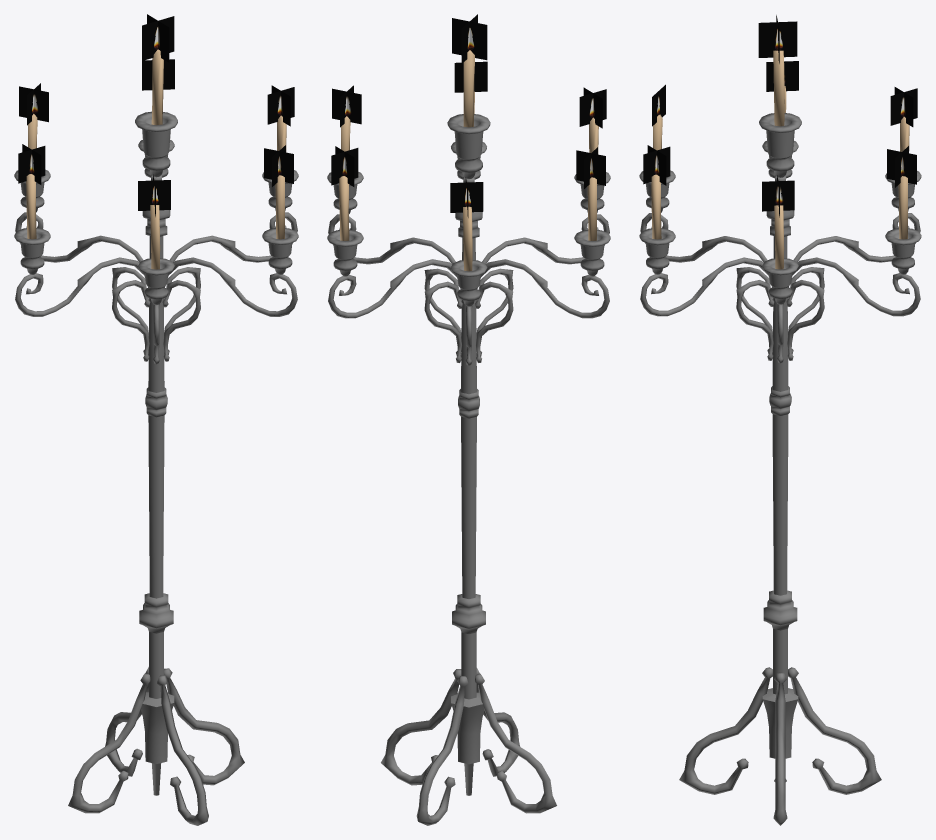
Rendered from SM_candelabra.fbx.
3 views of the same model, side by side, from view 1: azimuth 30°, elevation 25°; view 2: azimuth 150°, elevation 25°; view 3: azimuth 270°, elevation 25° (orthographic).
Visible parts, largest first — view 1: Cylinder031; view 2: Cylinder031; view 3: Cylinder031.
Boxes of the visible parts, x1,y1,x2,y2 form: Cylinder031: [14, 14, 298, 825]; Cylinder031: [327, 14, 610, 825]; Cylinder031: [639, 15, 921, 825].
Bounding box in the file's own units: 39.8 × 105 × 34.66.
